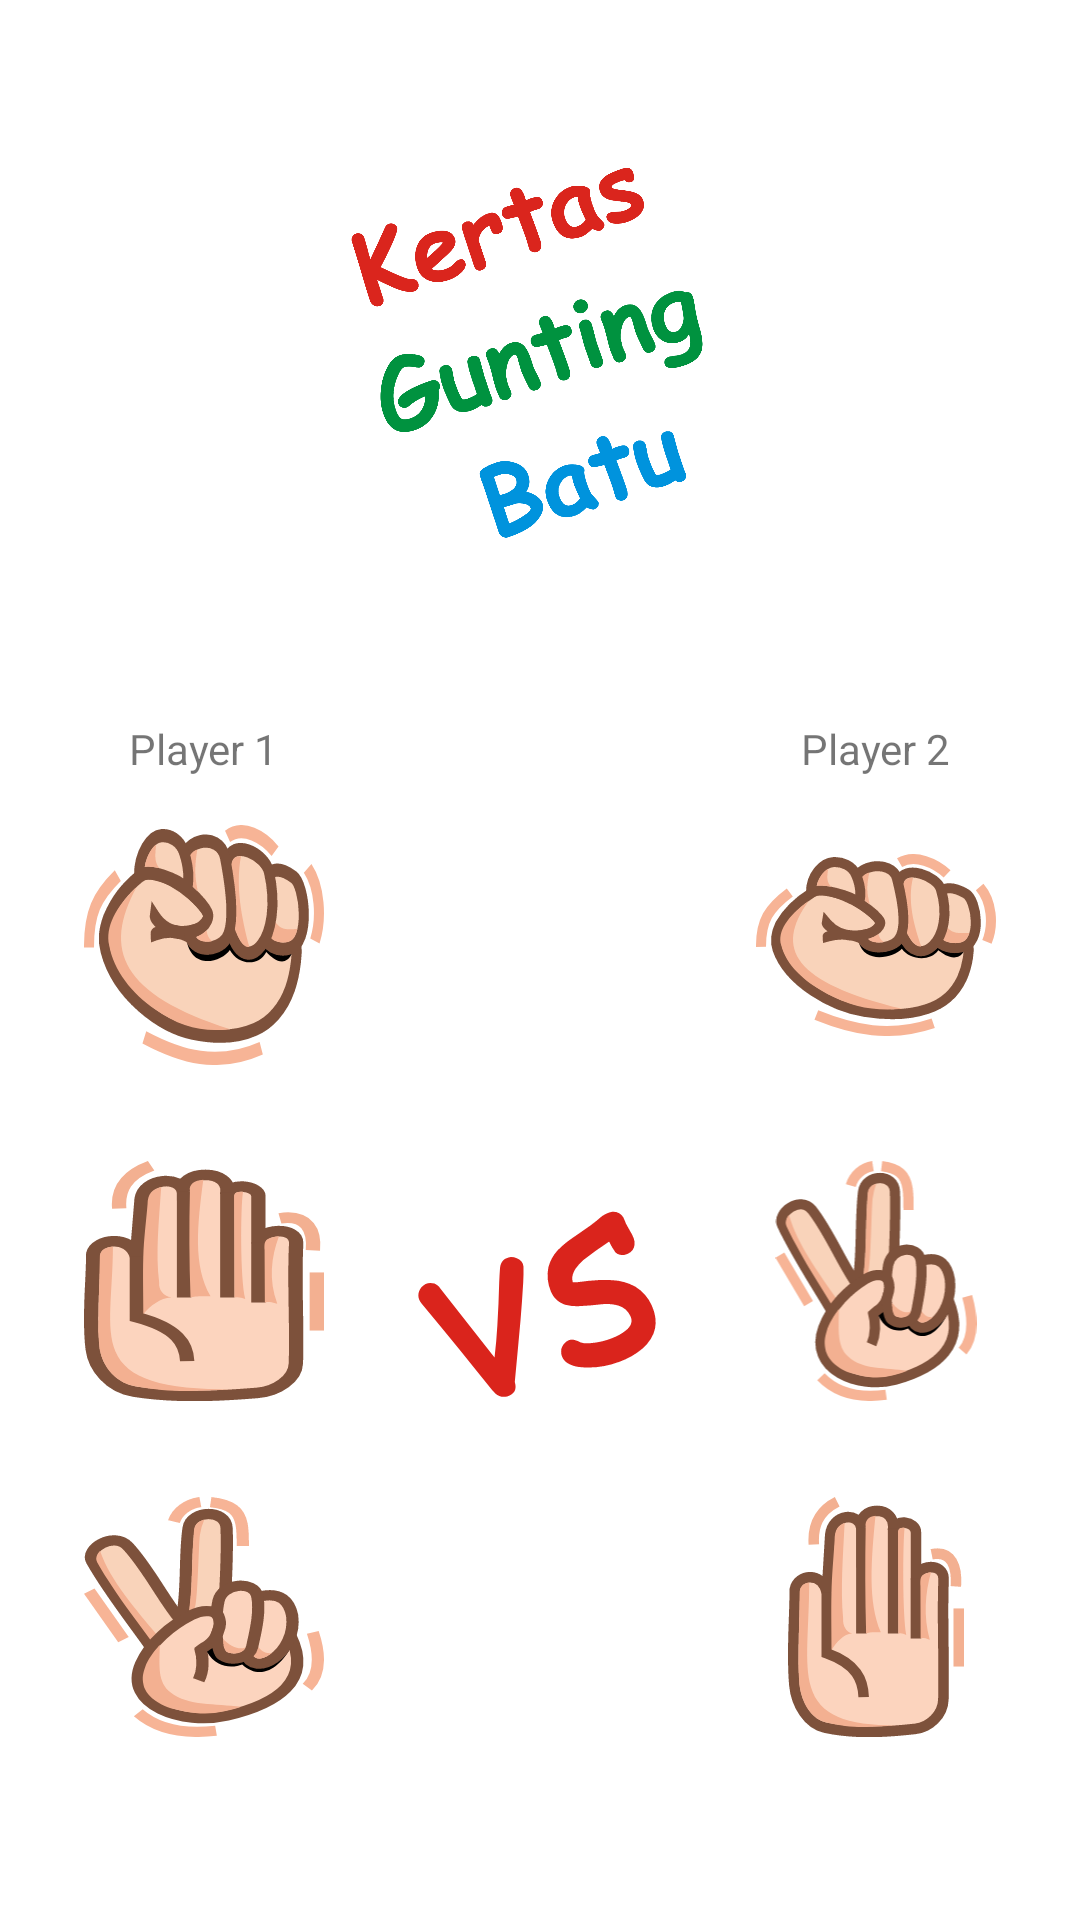

Icon bounding boxes for this 1080*1920 phone screenshot, format detection(x1, y1, x2, y2):
batu: detection(84, 825, 324, 1065), detection(756, 854, 996, 1036)
gunting: detection(775, 1161, 977, 1401), detection(84, 1497, 324, 1737)
kertas: detection(84, 1161, 324, 1401), detection(788, 1497, 964, 1737)
